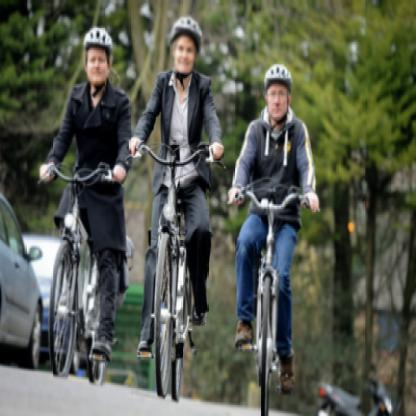Helmet: (162, 11, 208, 88), (81, 23, 119, 91), (263, 59, 296, 128)
